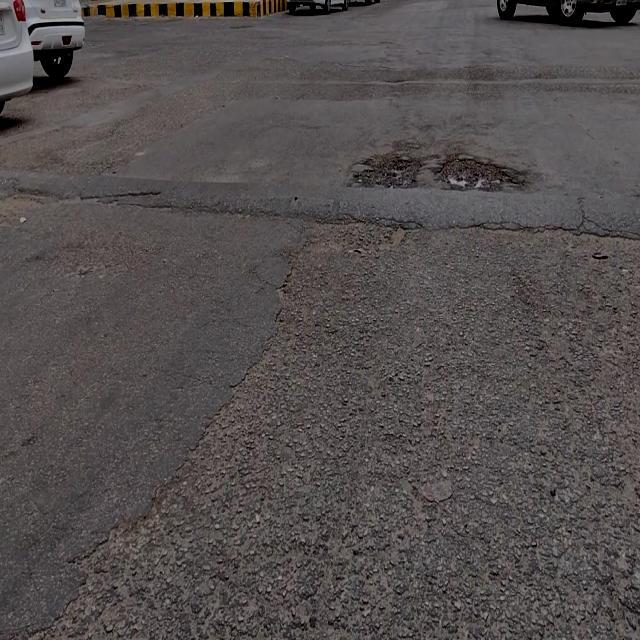Potholes: (435, 156, 525, 190), (354, 151, 424, 187)
